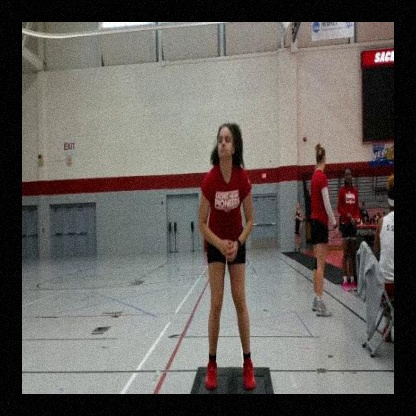lateral_flexion_left: (197, 117, 259, 394)
stance_width_normal: (195, 159, 259, 394)
